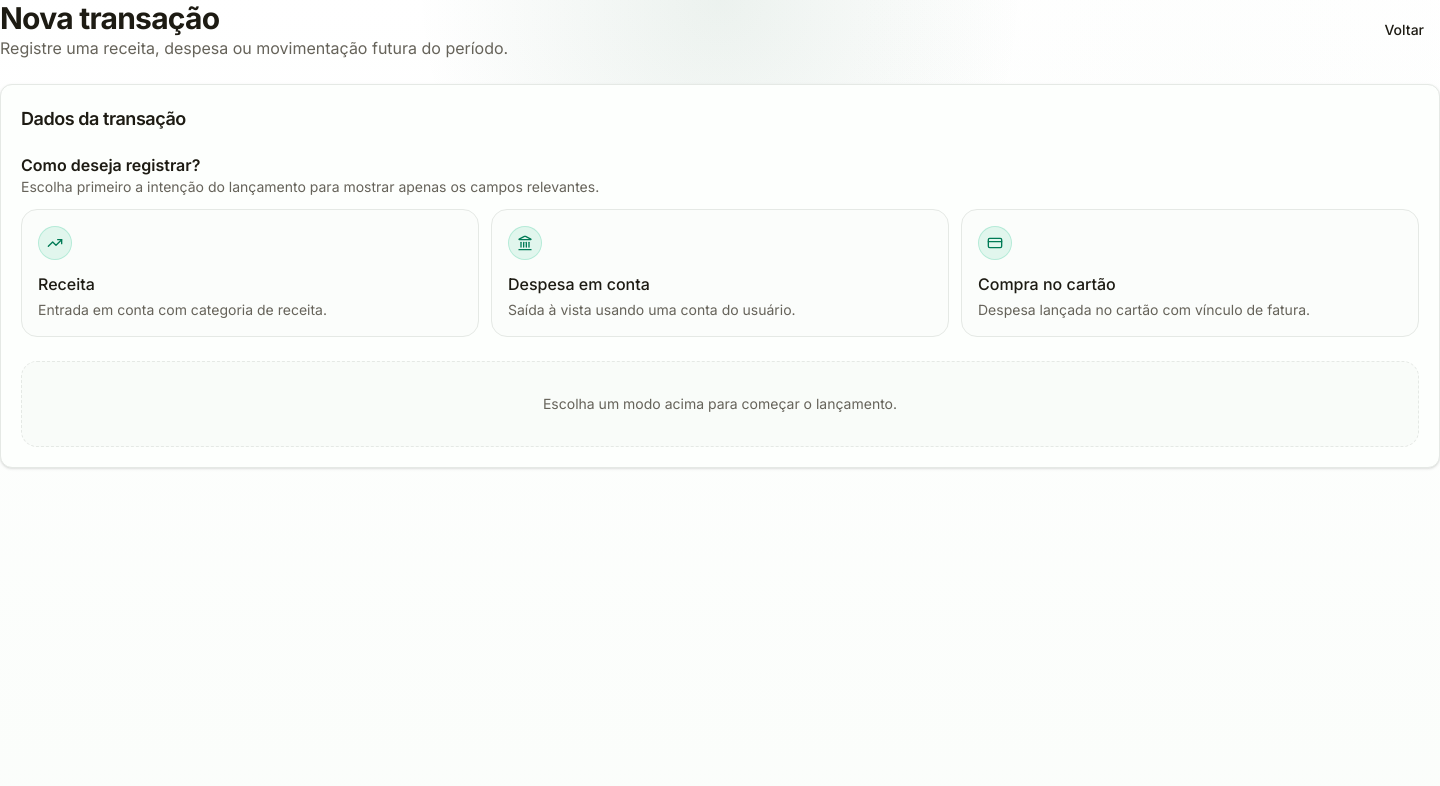
Test: transaction form › keeps invoice options aligned with the latest selected card when requests resolve out of order
Step 1. Click the button "Compra no cartão" → (995, 243), box [961,209,1419,337]
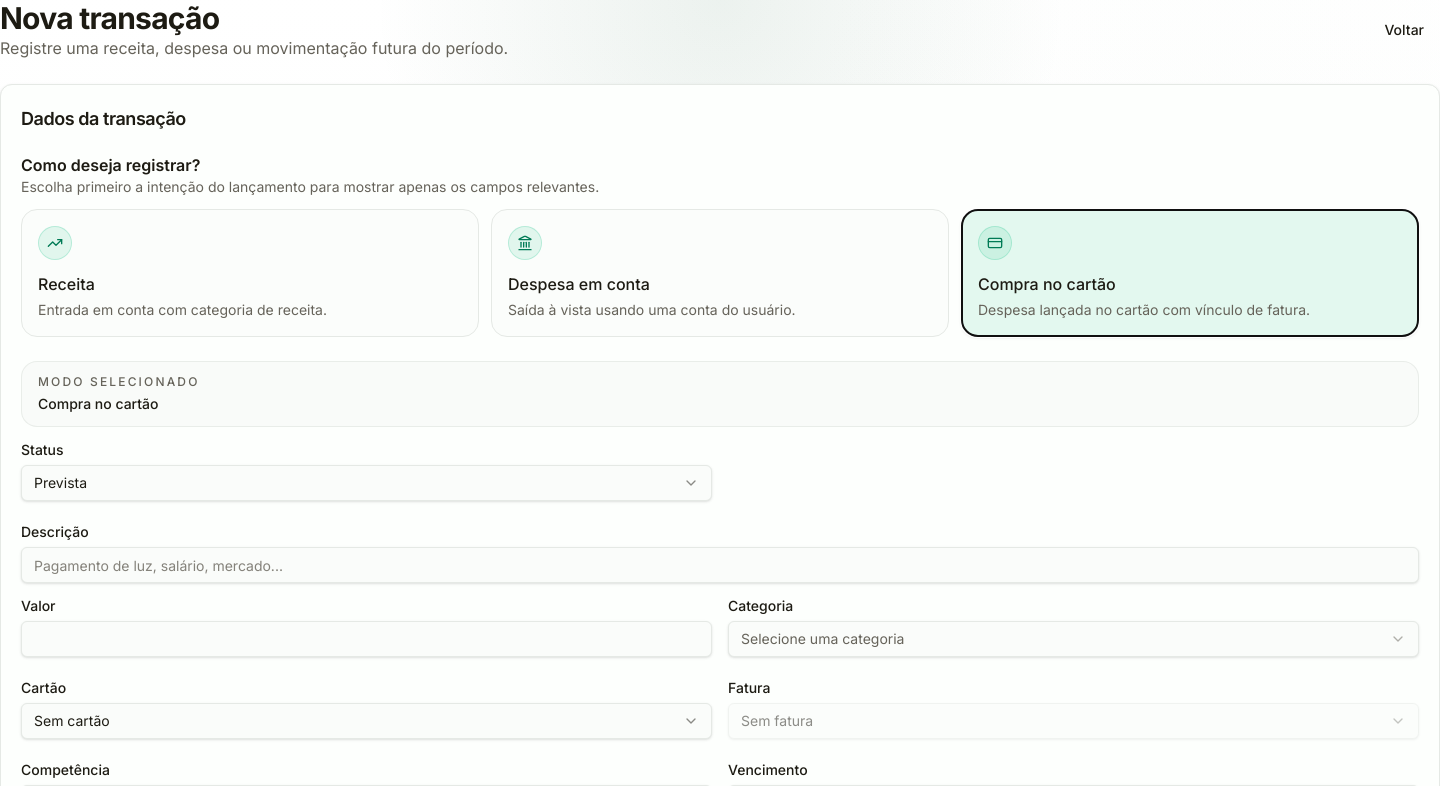
Step 2. Click the dropdown labelled "cartão" → (72, 720), box [21,703,712,739]
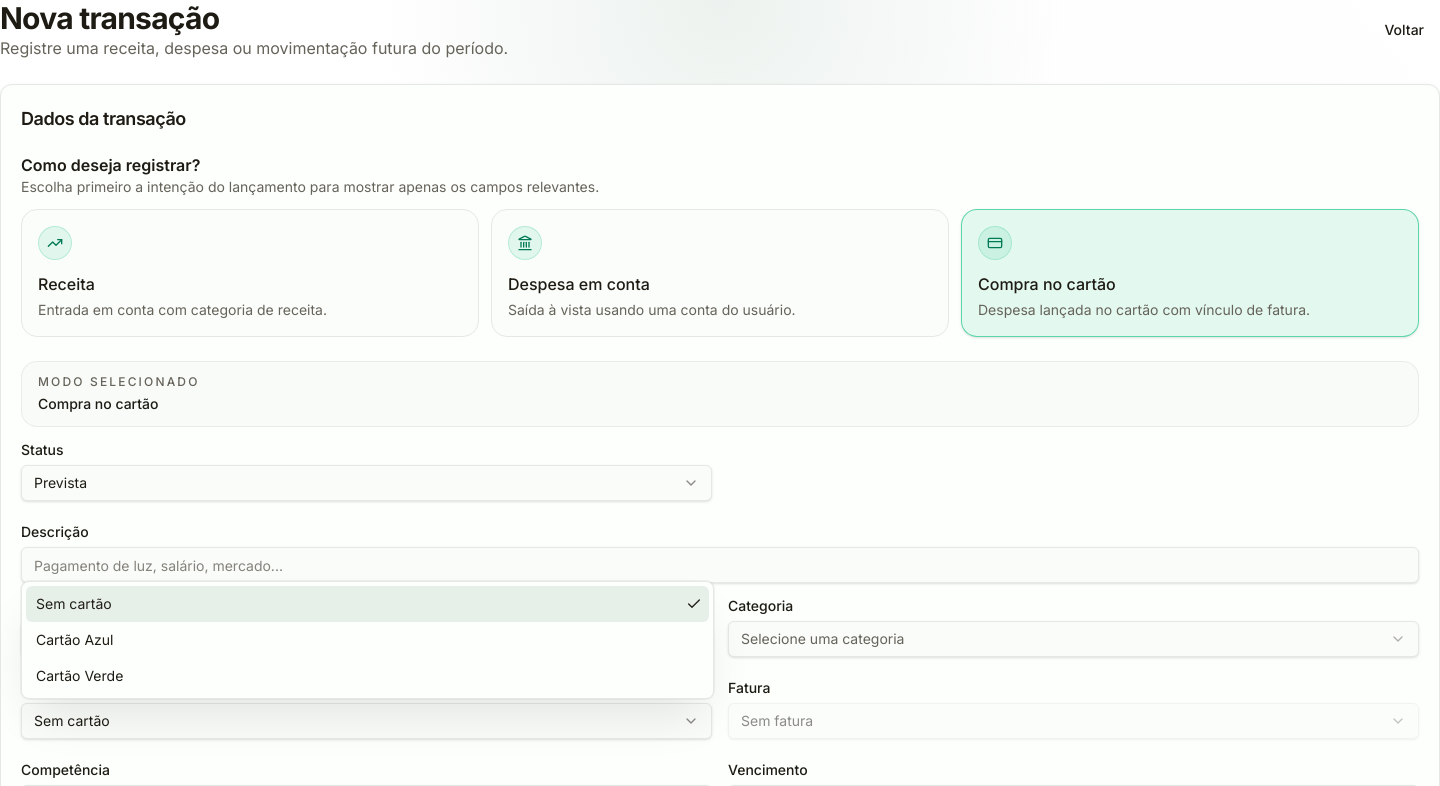
Step 3. Click the option "Cartão Azul" → (75, 640), box [36,631,114,648]
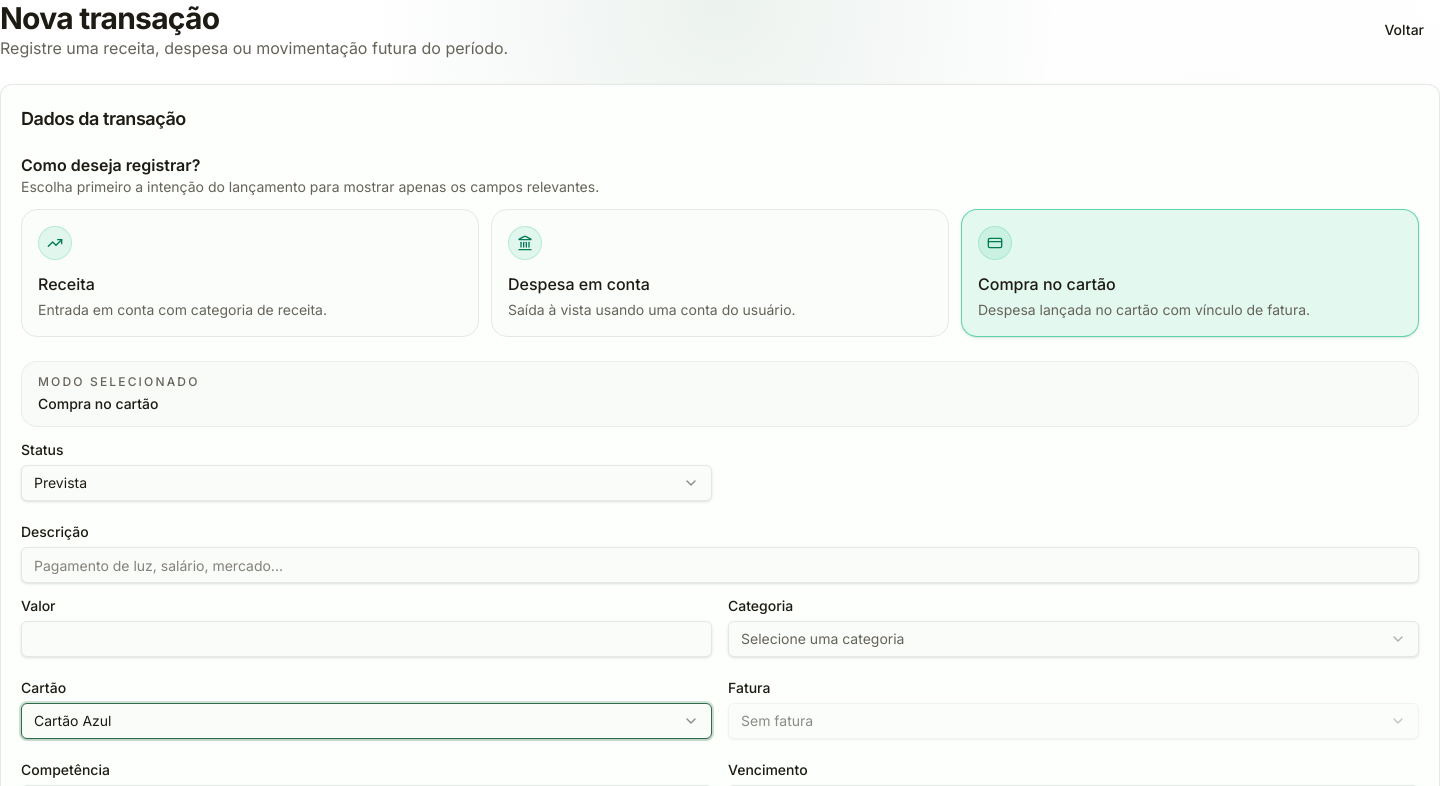
Step 4. Click the dropdown labelled "Cartão" → (73, 720), box [21,703,712,739]
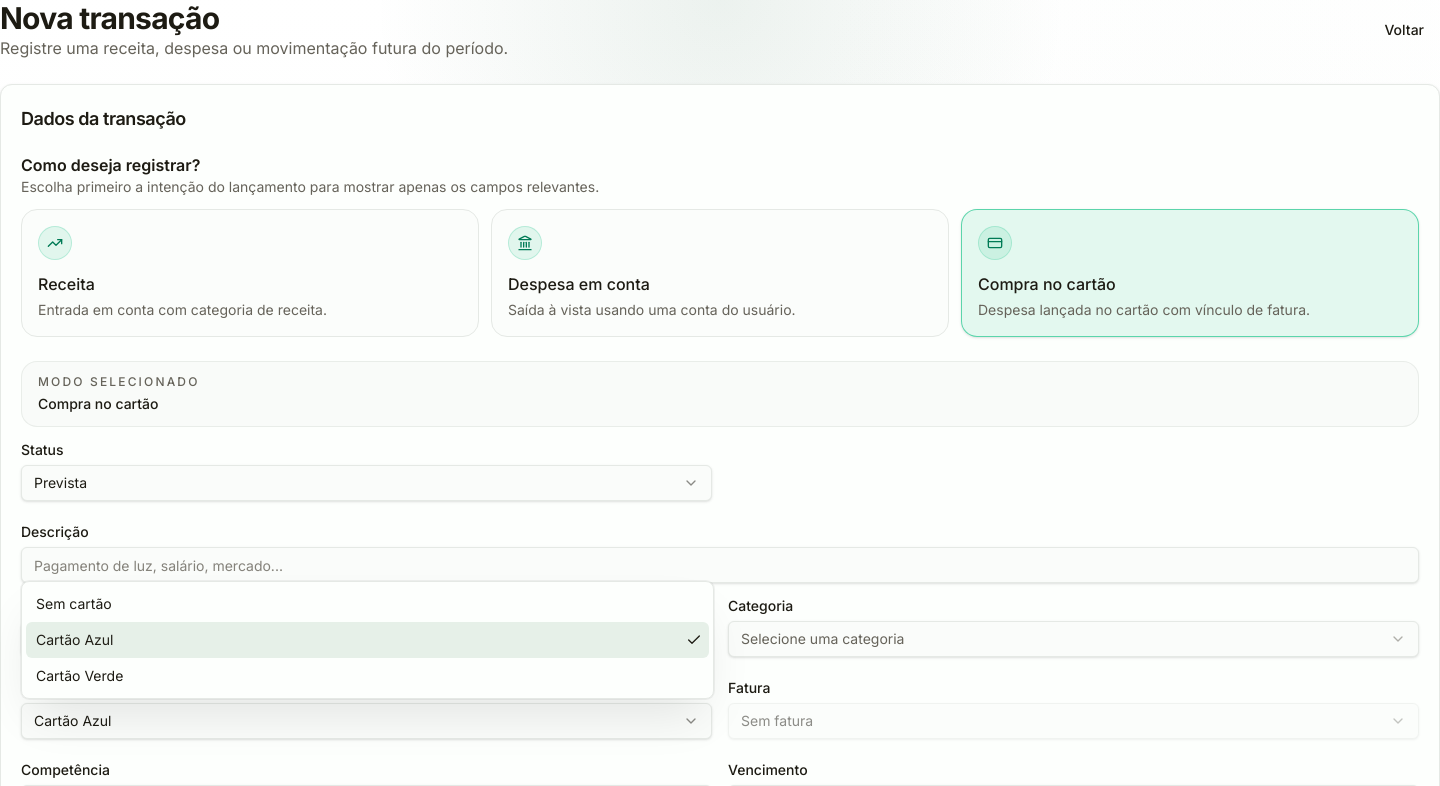
Step 5. Click the option "Cartão Verde" → (80, 676), box [36,667,123,684]
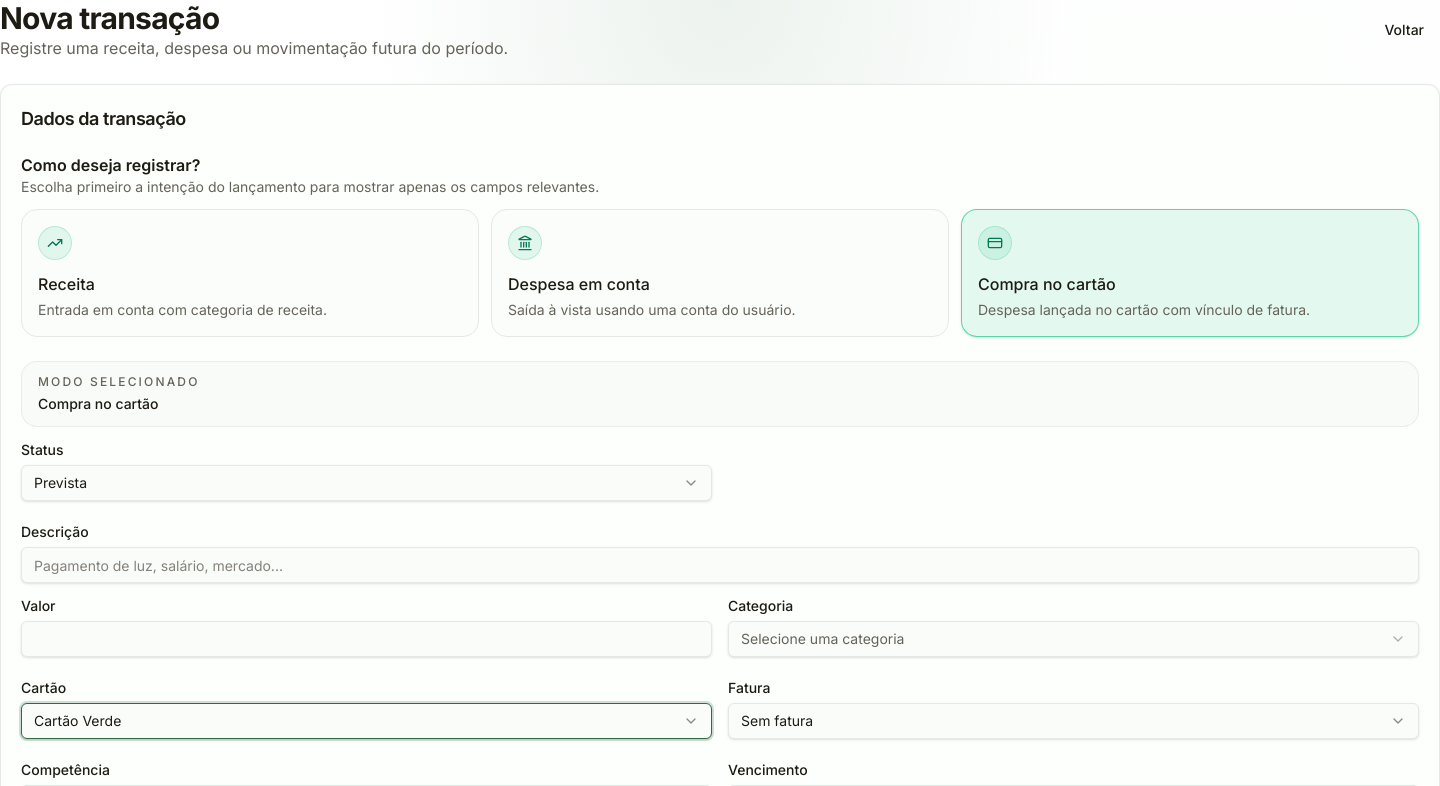
Step 6. Click the dropdown labelled "fatura" → (777, 720), box [728,703,1419,739]
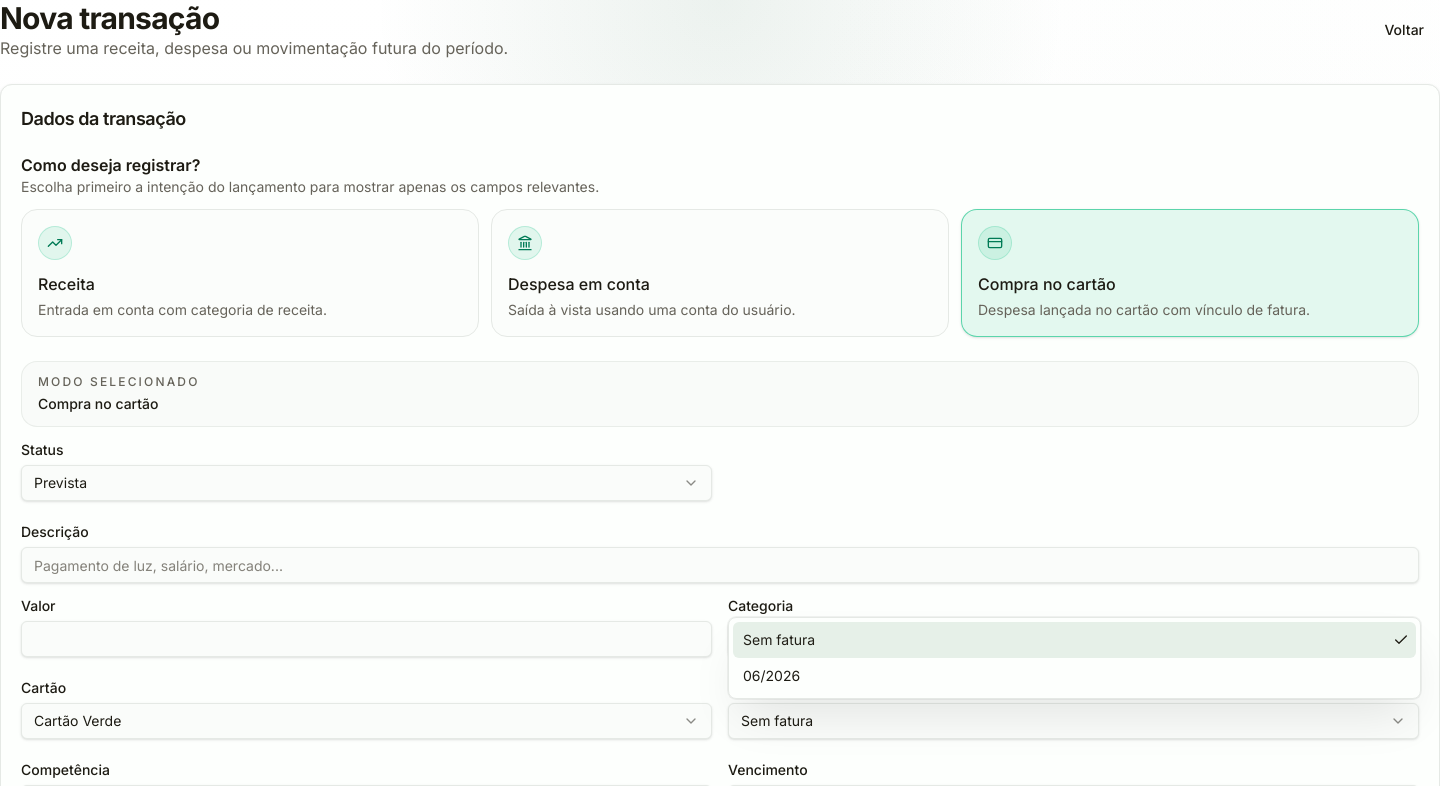
Expected: the option "06/2026" is shown, [743,667,800,684]
